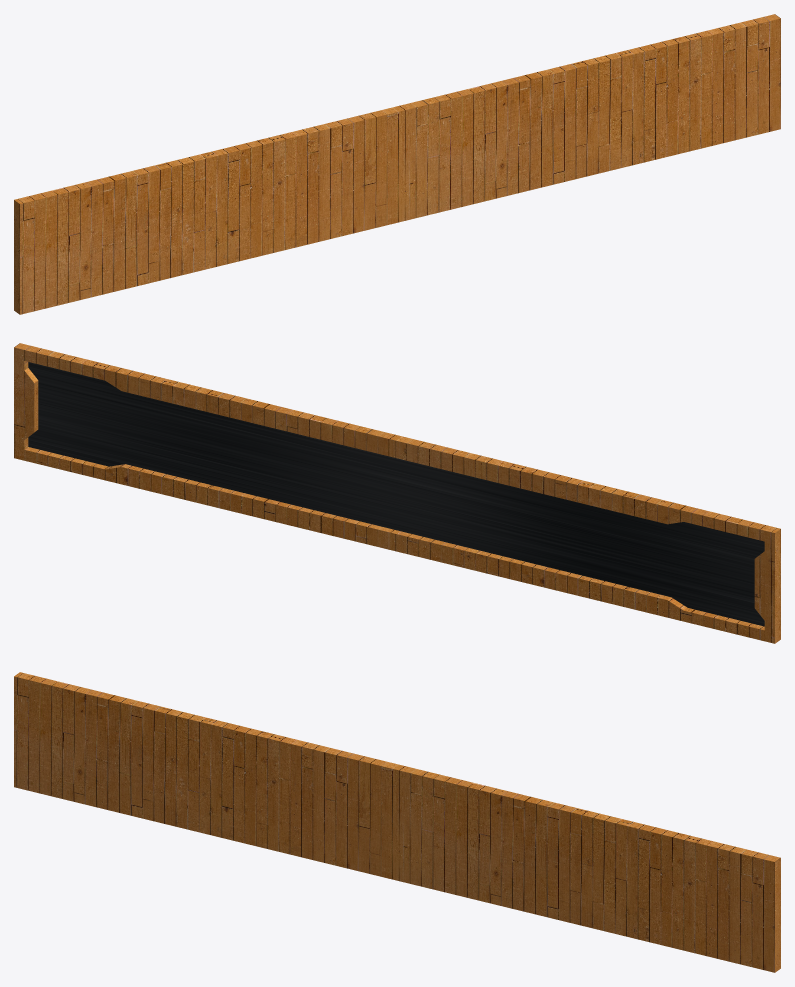
The model's file is scoreboardmesh.fbx.
3 renders of one model, top to bottom at view 1: azimuth 30°, elevation 25°; view 2: azimuth 150°, elevation 25°; view 3: azimuth 330°, elevation 25°, orthographic.
Parts seen in each view (by area): view 1: scoreboardmesh; view 2: scoreboardmesh; view 3: scoreboardmesh.
Boxes of the visible parts, x1,y1,x2,y2 form: scoreboardmesh: (14, 14, 780, 314); scoreboardmesh: (14, 343, 780, 643); scoreboardmesh: (14, 672, 780, 972).
Size of the model in its own units: 6.95 by 0.9656 by 0.0946.
